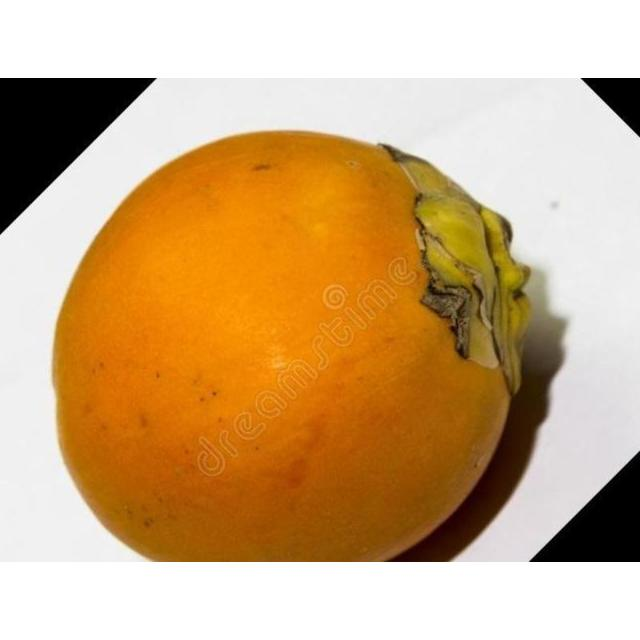good: (50, 130, 534, 561)
